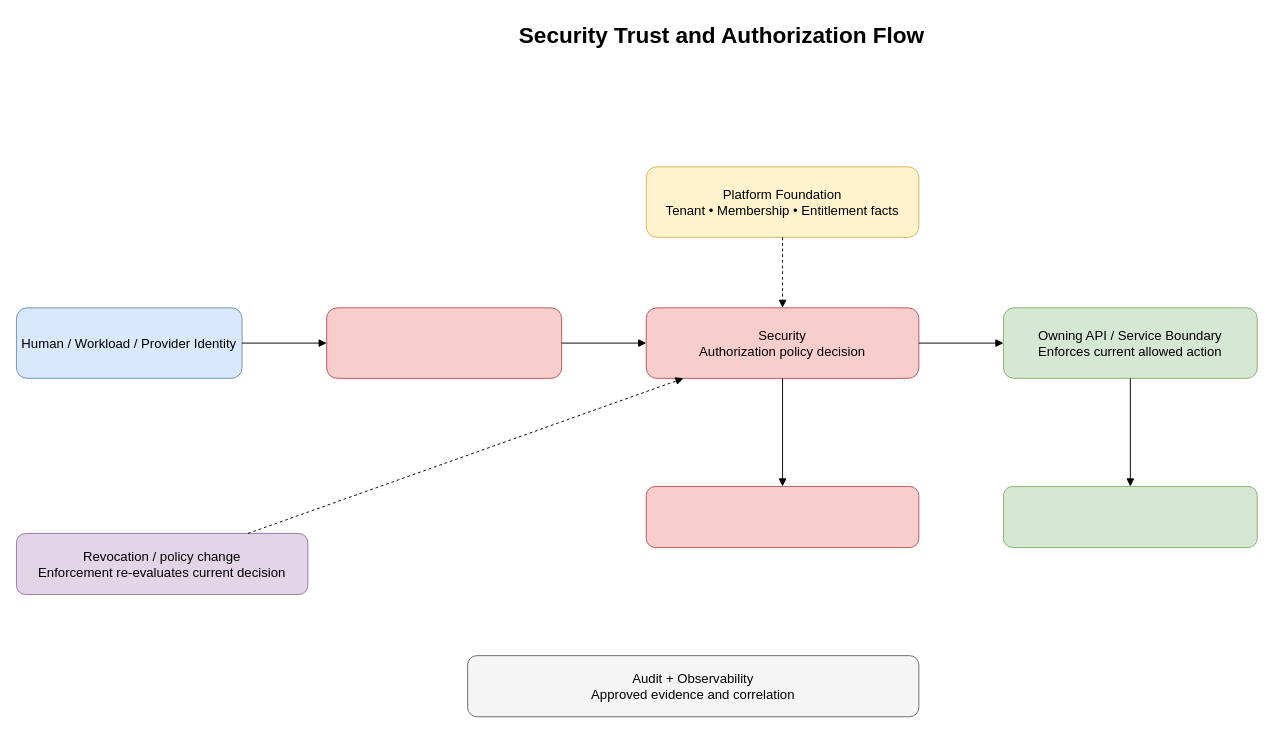
Image size: 1274x733. Some labels were removed from this diagram. Here are the shapes that lost their labels. From the top down, the centre of each, then its label:
At (444,342): "Security Authentication and trust validation".
At (782,517): "Safe denial / restriction No domain effect".
At (1130,517): "Allowed action Bounded domain request".
